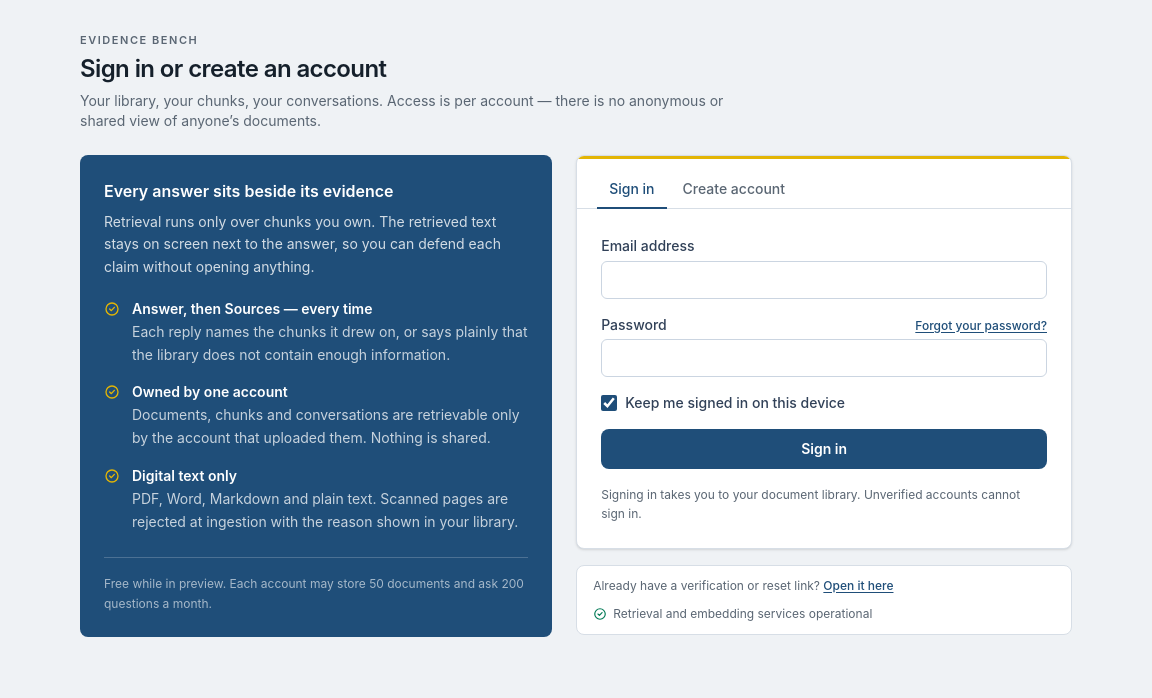
Scenario: SignIn › sign-in: a 403 renders the unverified notice with a working resend action
The width and height of the screenshot is (1152, 698).
Type "unverified@example.com" into the field labelled "Email address" at (824, 280), box [601, 260, 1047, 298]
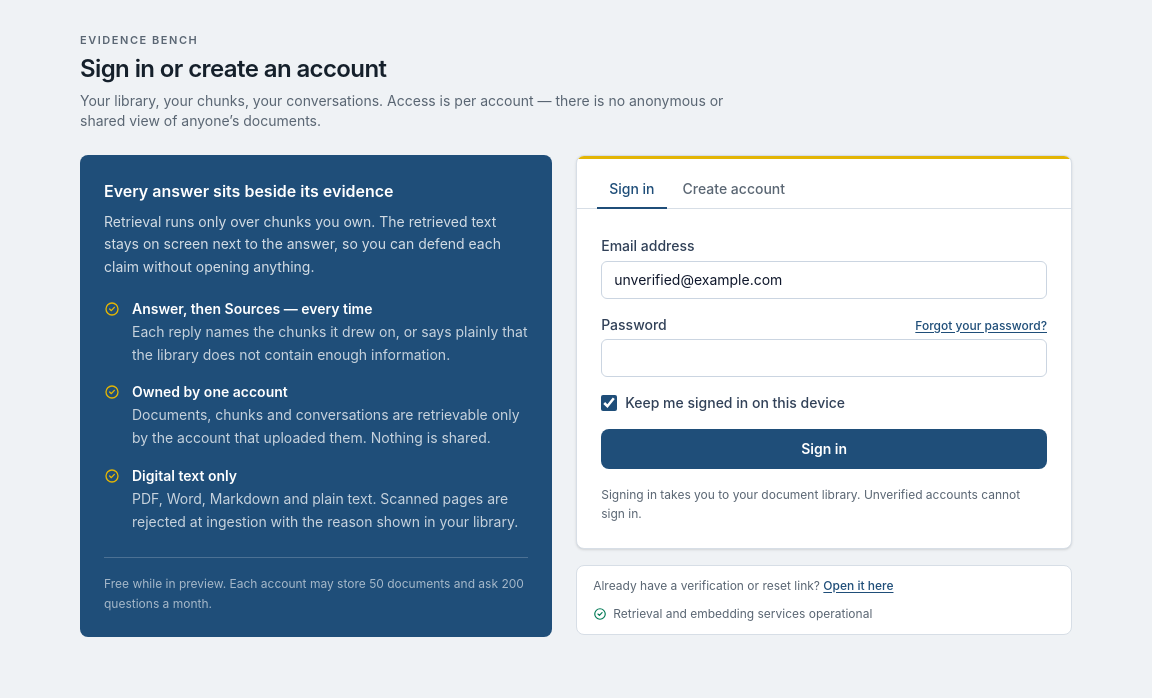
Type "Correct-Horse-9!" into the password field labelled "Password" at (824, 358), box [601, 338, 1047, 376]
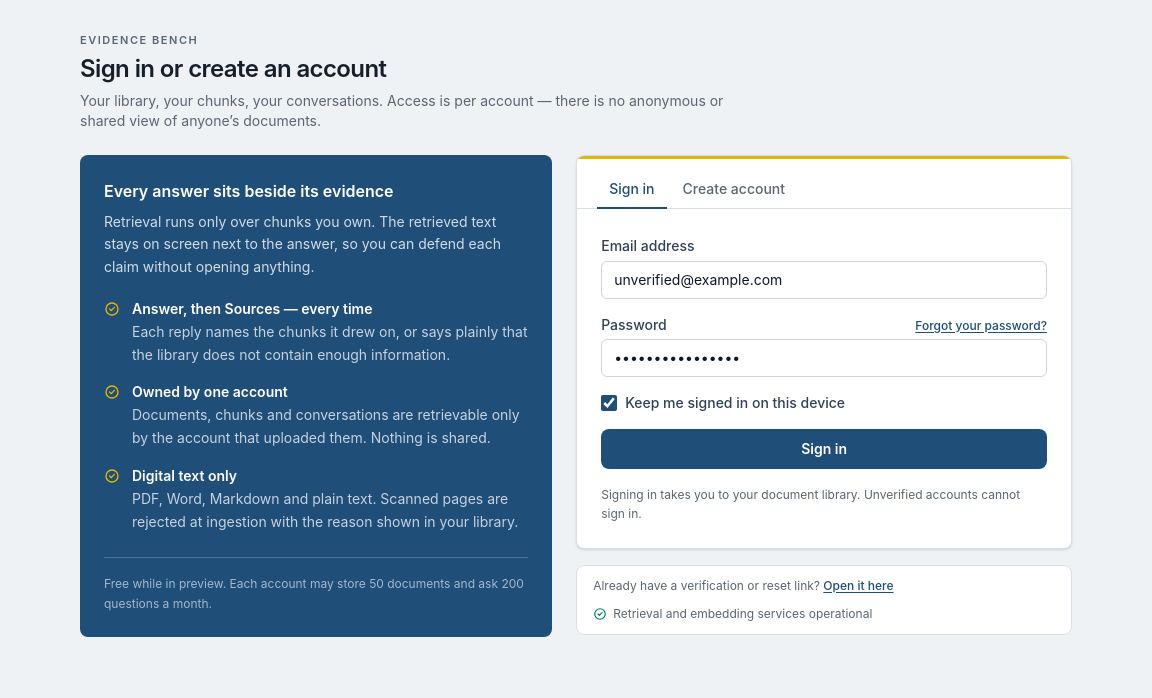
Click the button "Sign in" at (824, 448), box [601, 428, 1047, 468]
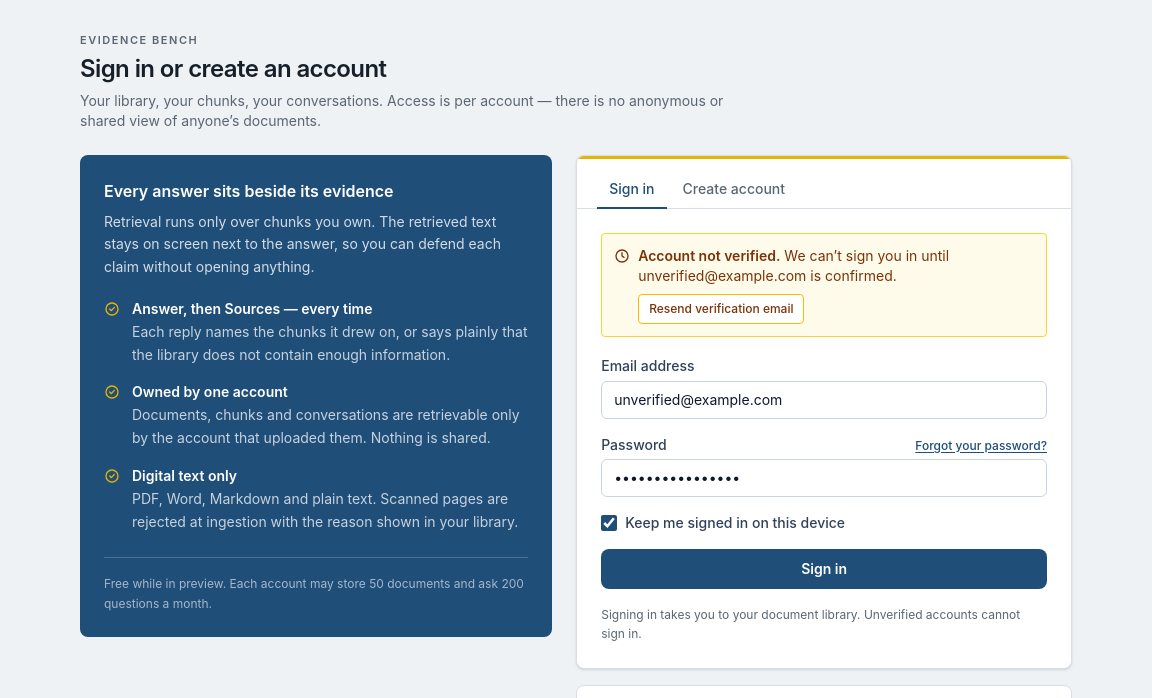
Expected: the text "Account not verified." is shown, [638, 246, 780, 264]
Click the button "Resend verification email" at (721, 308), box [638, 294, 804, 324]
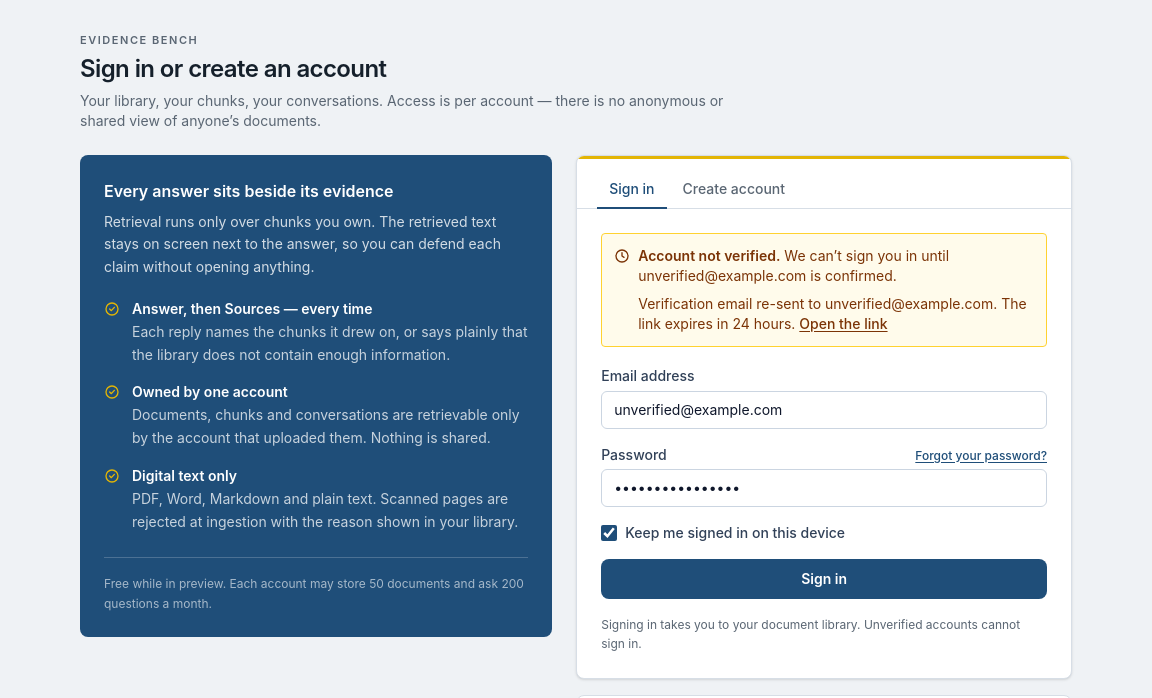
Expected: the text "Verification email re-sent" is shown, [638, 294, 825, 312]
